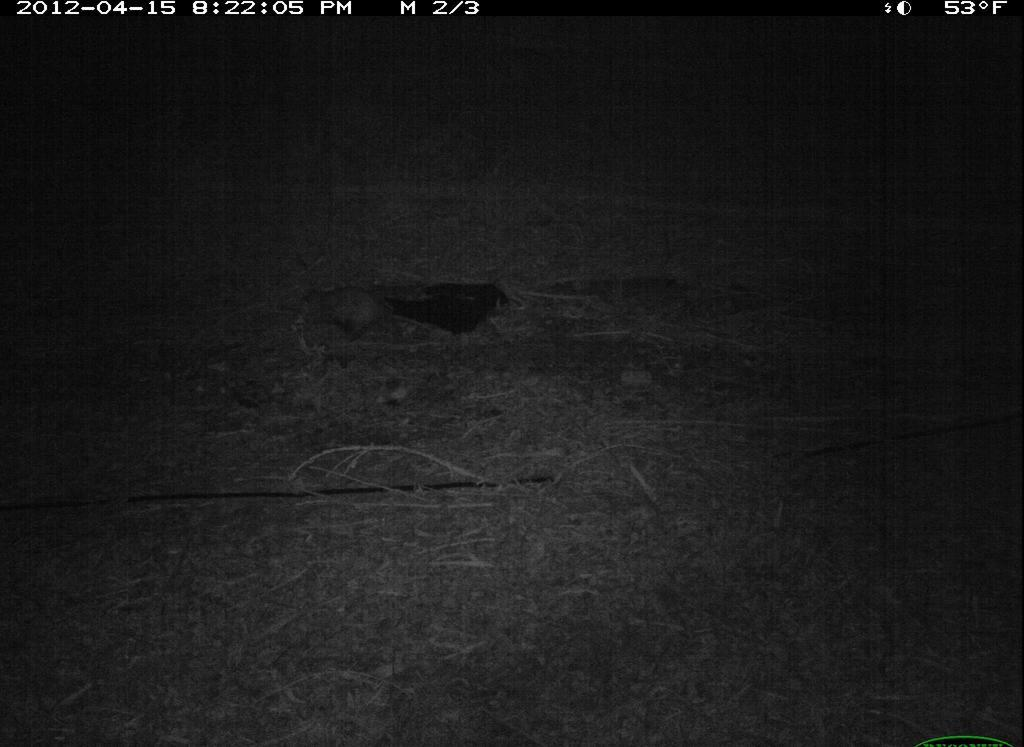opossum: (288, 270, 420, 357)
